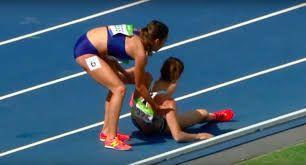Fall-Detected: (126, 51, 237, 143)
